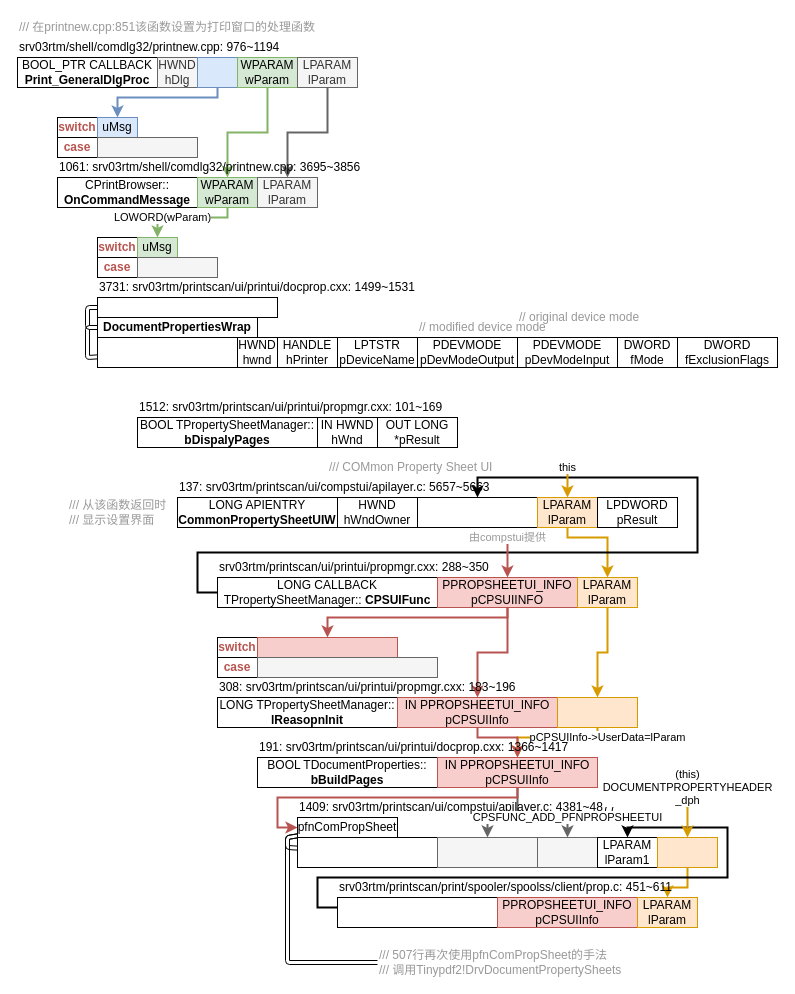
Image size: 795x994. Some labels were removed from this diagram. The shapes that lost their labels are listed below. From the top down, each one's box as (x1, y1, x2, y2) in pixels, then its label:
(196, 56, 238, 88): UINT uMsg
(96, 136, 198, 158): WM_COMMAND
(136, 256, 218, 278): IDC_DRIVER
(96, 296, 278, 318): g_pfnDocumentPropertiesWrap
(96, 336, 238, 368): Long Document PropertiesWrapNative
(416, 496, 538, 528): PFNPROPSHEETUI pfnPropSheetUI
(256, 636, 398, 658): pCPSUIINFO->Reason
(256, 656, 438, 678): PROPSHEETUI_REASON_INIT
(556, 696, 638, 728): IN LPARAM lParam
(296, 836, 438, 868): LONG_PTR CALLBACK CPSUICallBack
(436, 836, 538, 868): HANDLE hComPropSheet
(536, 836, 598, 868): UINT Function
(656, 836, 718, 868): LPARAM lParam2
(336, 896, 498, 928): LONG_PTR DocumentPropertySheets
